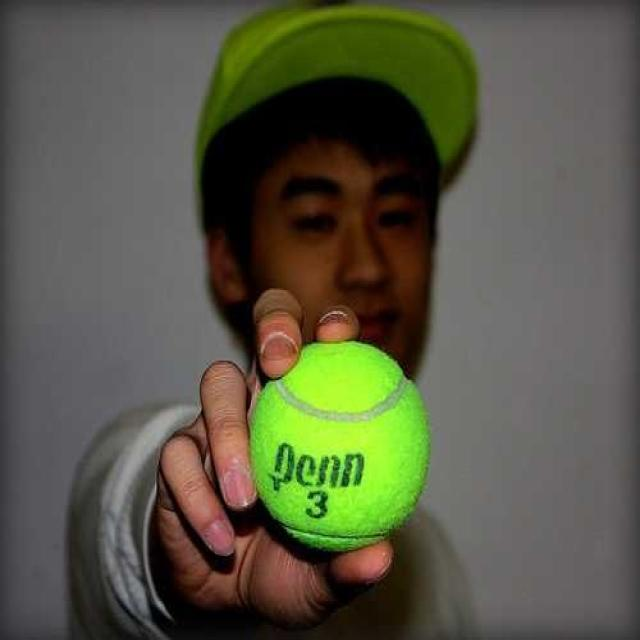Tennis_Ball: (240, 342, 440, 550)
